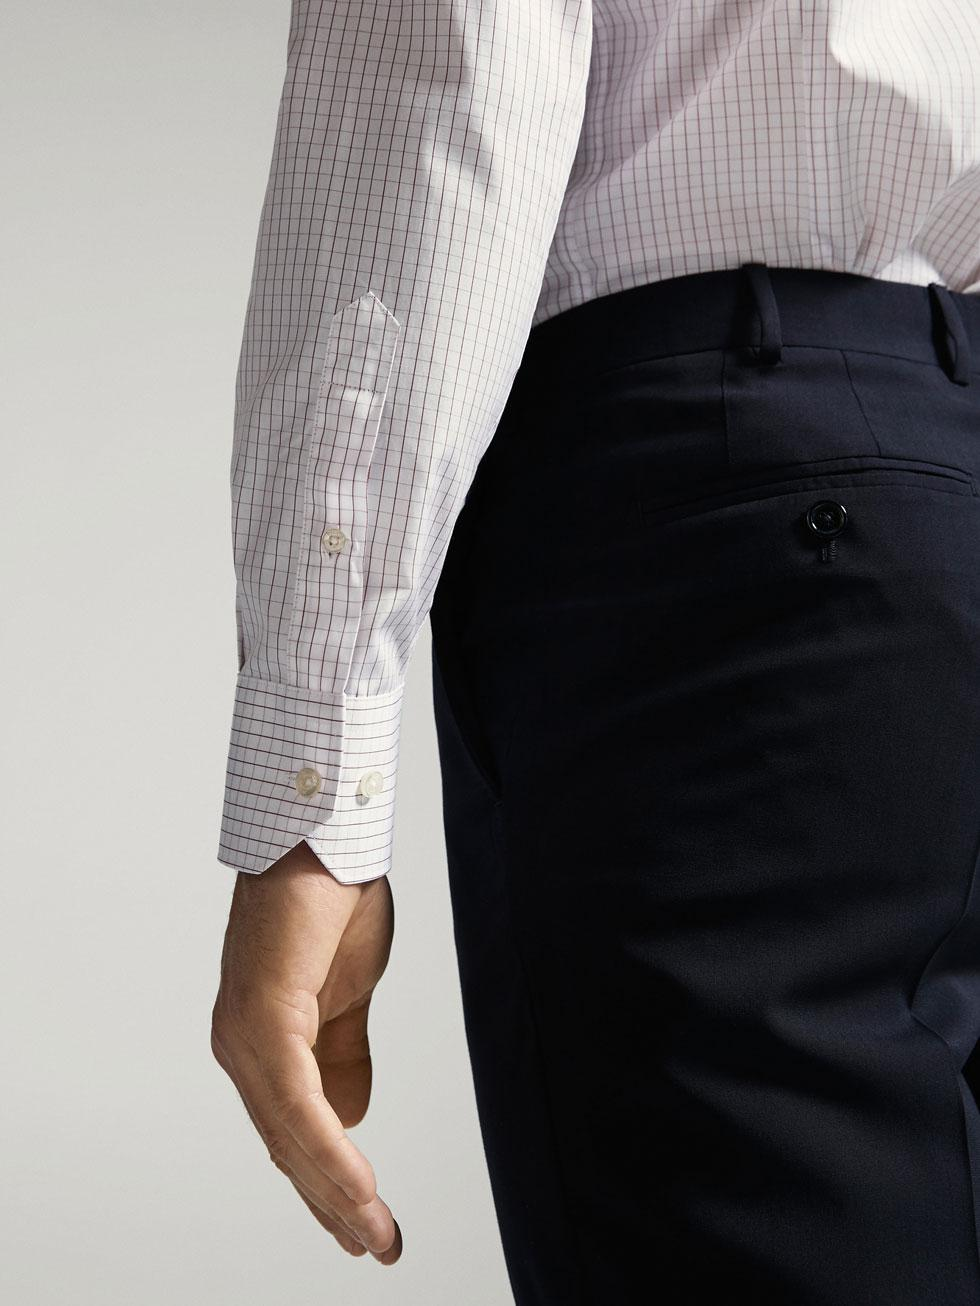teeshirt: (201, 1, 978, 881)
